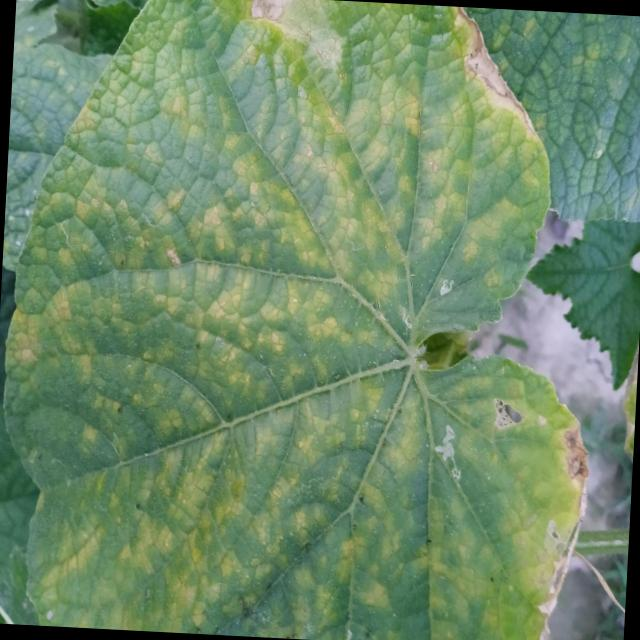cucumber_downy: (0, 0, 576, 640)
